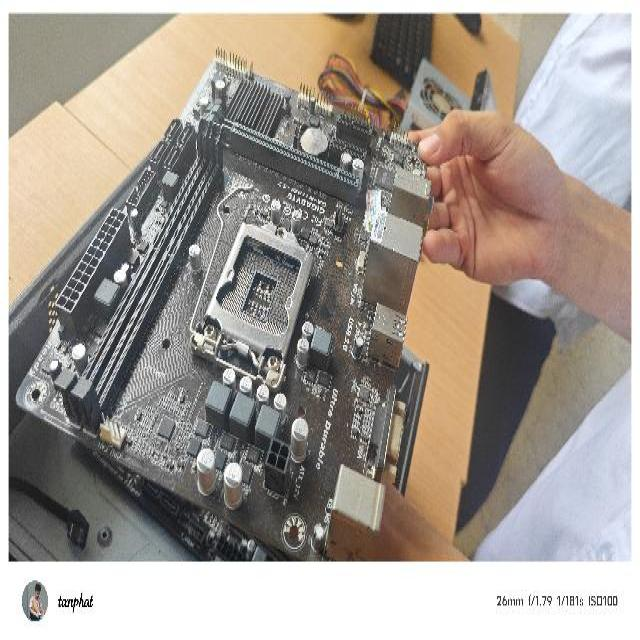Mainboard: (13, 41, 438, 563)
